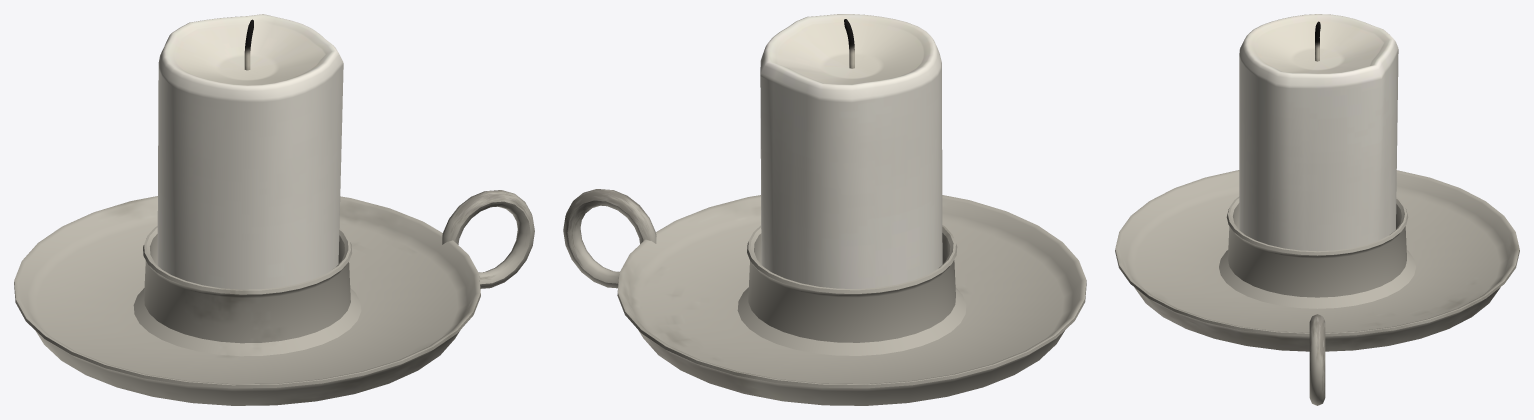
The model's file is candle.glb.
3 renders of one model, left to right at view 1: azimuth 30°, elevation 25°; view 2: azimuth 150°, elevation 25°; view 3: azimuth 270°, elevation 25°, orthographic. The views are drawn at different scales.
Visible parts, largest first — view 1: holder, candle_body; view 2: holder, candle_body; view 3: holder, candle_body.
Part boxes in pixels (x1,y1,x2,y2): holder: (14,190,534,405); candle_body: (157,14,343,289); holder: (563,189,1086,405); candle_body: (760,14,942,288); holder: (1115,170,1519,405); candle_body: (1239,14,1398,251).
Bounding box in the file's own units: 0.114 × 0.0724 × 0.0945.
3 materials, 3 textured.
